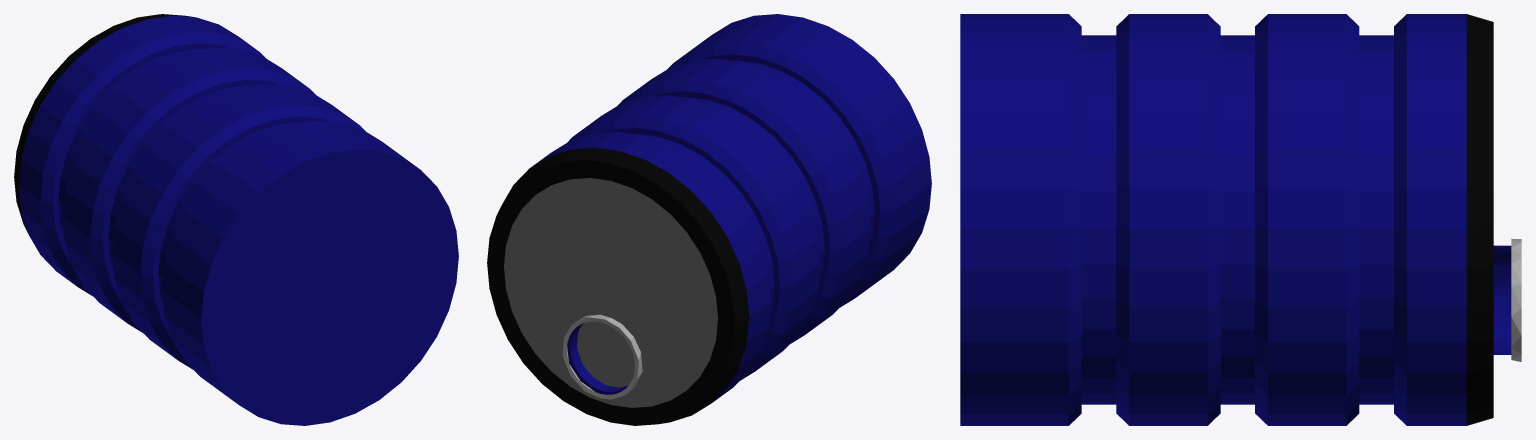
Rendered from barrel.fbx.
3 renders of one model, left to right at view 1: azimuth 30°, elevation 25°; view 2: azimuth 150°, elevation 25°; view 3: azimuth 270°, elevation 25°, orthographic. The views are drawn at different scales.
Visible parts, largest first — view 1: Barrel, Barrel.3, Barrel.1, Barrel.4; view 2: Barrel.4, Barrel.1, Barrel.3, Barrel, Barrel.2; view 3: Barrel, Barrel.1, Barrel.2, Barrel.3, Barrel.4.
Boxes of the visible parts, x1=… form: Barrel: x1=180, y1=84, x2=458, y2=425; Barrel.3: x1=112, y1=108, x2=329, y2=403; Barrel.1: x1=62, y1=14, x2=315, y2=332; Barrel.4: x1=14, y1=17, x2=177, y2=296; Barrel.4: x1=504, y1=135, x2=780, y2=425; Barrel.1: x1=487, y1=95, x2=842, y2=422; Barrel.3: x1=755, y1=17, x2=931, y2=333; Barrel: x1=617, y1=14, x2=802, y2=124; Barrel.2: x1=562, y1=314, x2=642, y2=399; Barrel: x1=960, y1=14, x2=1254, y2=425; Barrel.1: x1=1255, y1=14, x2=1493, y2=425; Barrel.2: x1=1493, y1=238, x2=1521, y2=361; Barrel.3: x1=960, y1=14, x2=1129, y2=52; Barrel.4: x1=1359, y1=14, x2=1493, y2=52.
Bounding box in the file's own units: 229 × 229 × 312.
